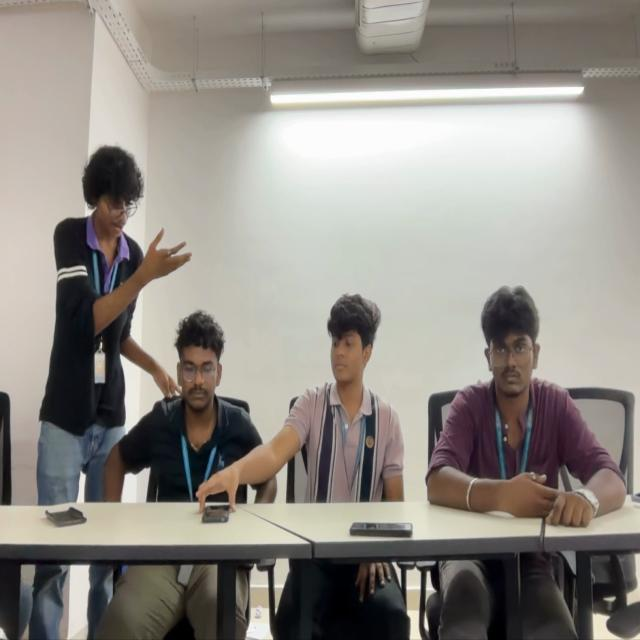Isolated: (424, 286, 629, 518)
socializing: (37, 146, 403, 502)
